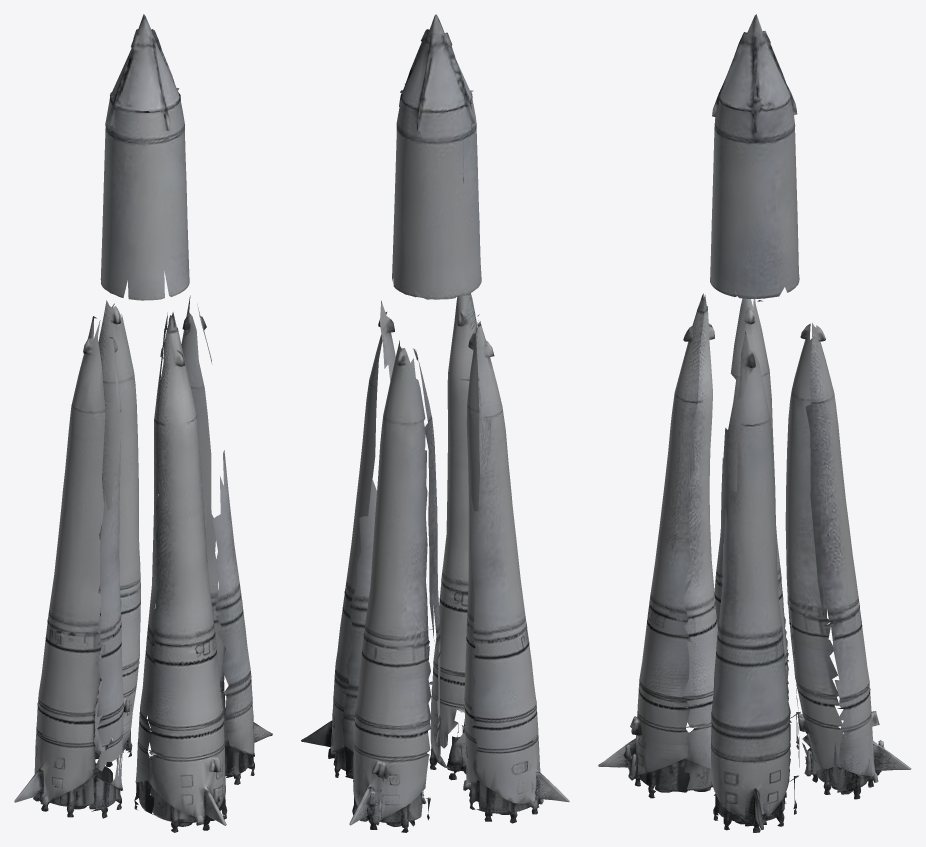
File: r7_parts.glb
3 renders of one model, left to right at view 1: azimuth 30°, elevation 25°; view 2: azimuth 150°, elevation 25°; view 3: azimuth 270°, elevation 25°, orthographic.
Parts seen in each view (by area): view 1: booster1, booster2, core, booster0, booster3, nose_s; view 2: booster3, booster2, core, booster1, booster0, nose_n; view 3: booster3, booster1, booster0, core, booster2, nose_n, nose_s.
Part boxes in pixels (left/top/right/bottom): booster1: left=134, top=312, right=227, bottom=832; booster2: left=14, top=316, right=123, bottom=818; core: left=100, top=115, right=189, bottom=300; booster0: left=181, top=295, right=272, bottom=784; booster3: left=94, top=300, right=140, bottom=766; nose_s: left=108, top=16, right=183, bottom=131; booster3: left=349, top=340, right=440, bottom=832; booster2: left=463, top=314, right=569, bottom=823; core: left=392, top=106, right=481, bottom=299; booster1: left=429, top=293, right=491, bottom=780; booster0: left=301, top=300, right=395, bottom=781; nose_n: left=398, top=14, right=472, bottom=130; booster3: left=785, top=323, right=911, bottom=799; booster1: left=598, top=293, right=717, bottom=798; booster0: left=711, top=331, right=799, bottom=832; core: left=710, top=114, right=799, bottom=298; booster2: left=714, top=298, right=800, bottom=749; nose_n: left=755, top=14, right=797, bottom=132; nose_s: left=712, top=16, right=754, bottom=131.
Size of the model in its own units: 10.69 by 30 by 11.06.
Materials: 1 (1 with a texture image).
